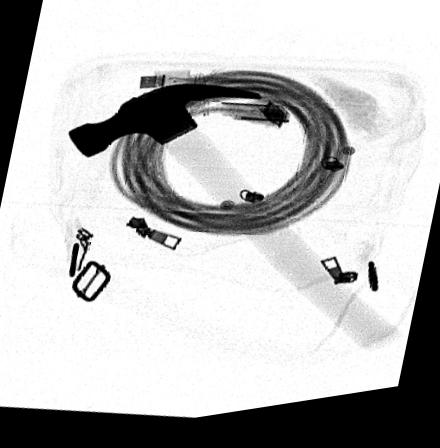Hammer: (66, 88, 397, 362)
